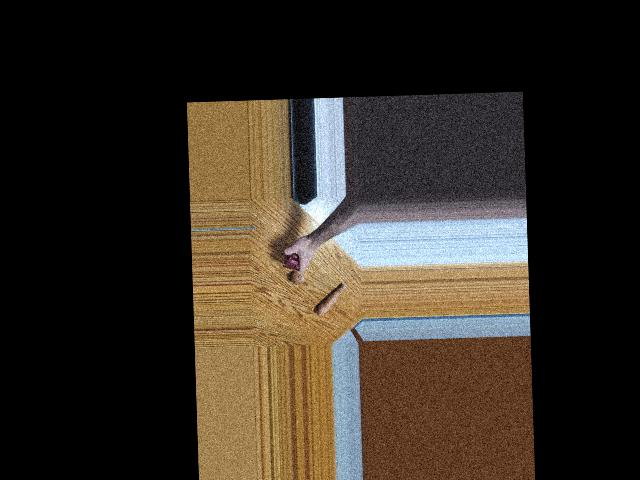onion: (289, 268, 305, 285)
